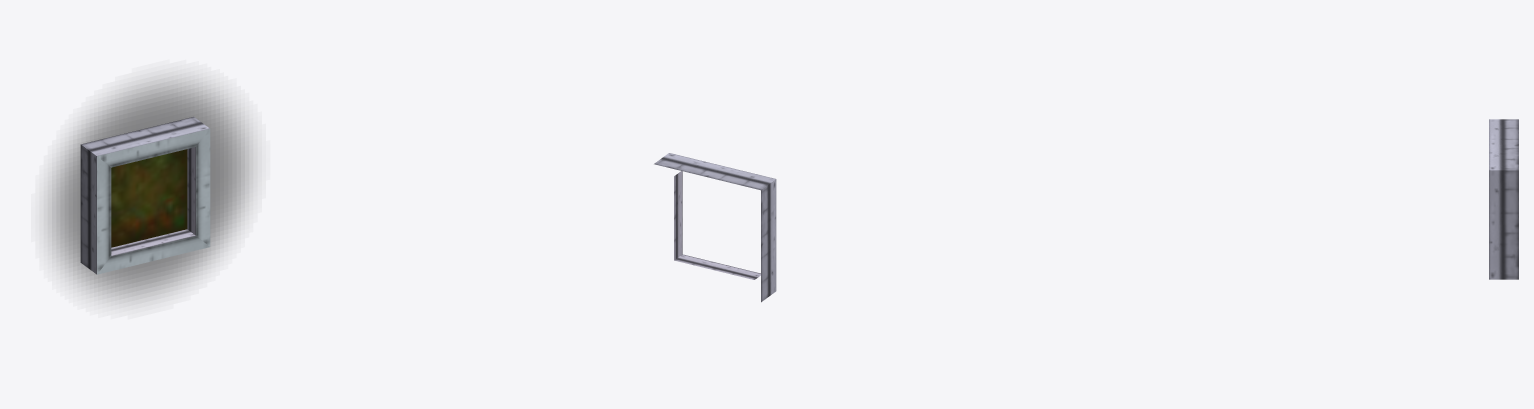
File: prop_snow_tree_small_brickbox_ur.glb
The picture shows the model from 3 angles, left to right: view 1: azimuth 30°, elevation 25°; view 2: azimuth 150°, elevation 25°; view 3: azimuth 270°, elevation 25°; orthographic projection. The views are drawn at different scales.
Parts seen in each view (by area): view 1: shadow_snow_tree_small_brickbox_ur, tree_box_planter_bricks_3; view 2: tree_box_planter_bricks_3; view 3: tree_box_planter_bricks_3.
Part boxes in pixels (x1=…): shadow_snow_tree_small_brickbox_ur: x1=47, y1=77, x2=252, y2=302; tree_box_planter_bricks_3: x1=80, y1=117, x2=210, y2=274; tree_box_planter_bricks_3: x1=654, y1=153, x2=776, y2=302; tree_box_planter_bricks_3: x1=1489, y1=119, x2=1518, y2=279.
Size of the model in its own units: 14.12 by 12.32 by 23.14.
Materials: 5 (5 with a texture image).
